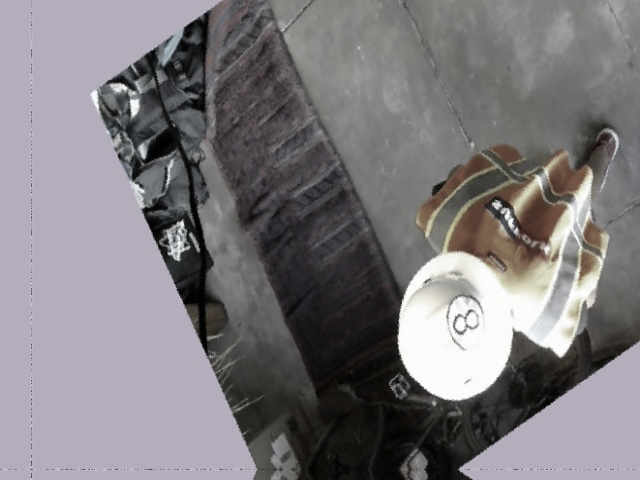eight: (437, 283, 495, 359)
